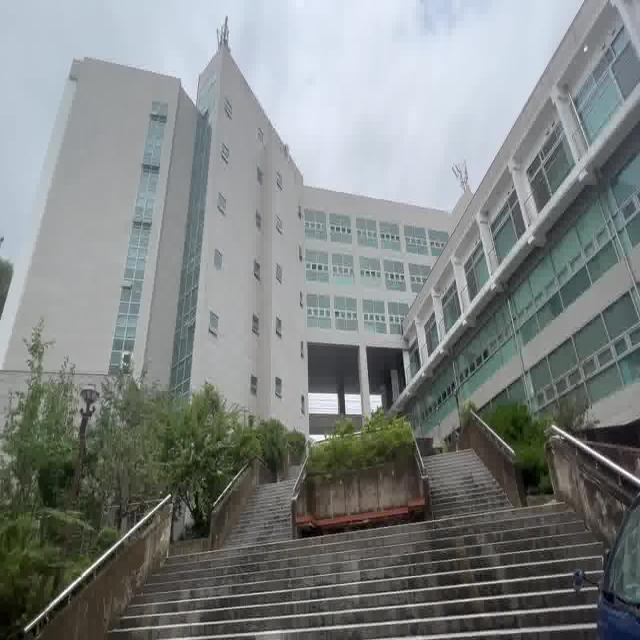building: (37, 67, 410, 378)
